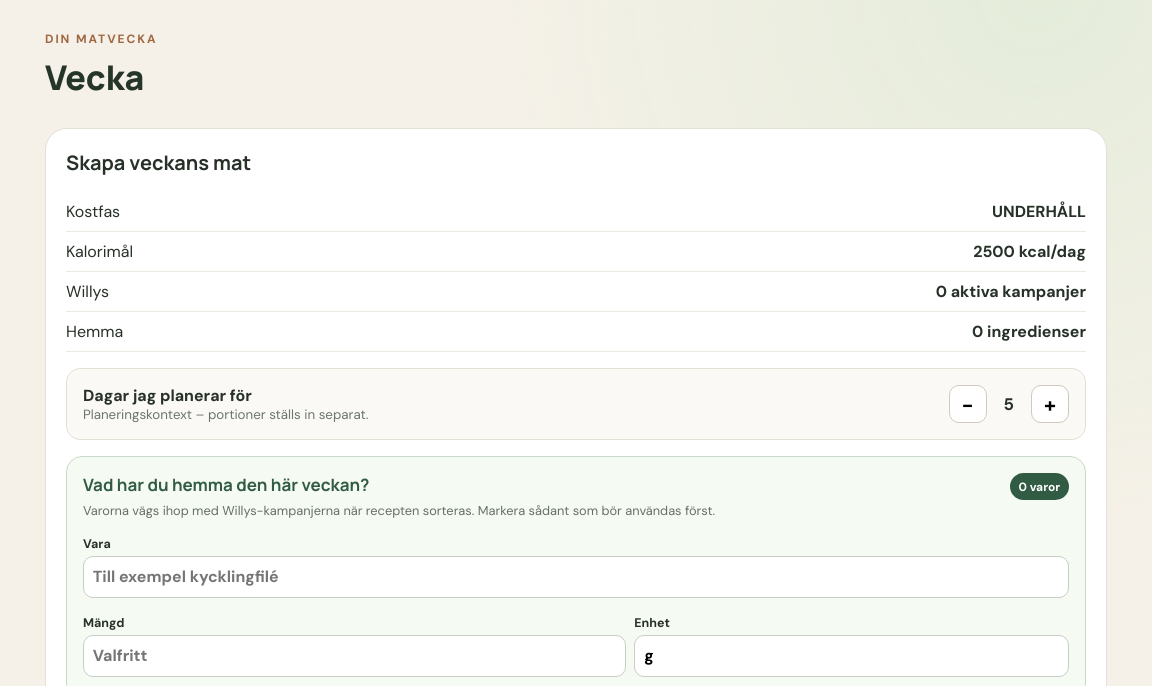
weekly campaign and planner UI › lets the user register weekly home ingredients before recommendations are ranked
Expected: the heading "Vad har du hemma den här veckan?" is shown, left=83, top=473, right=370, bottom=496
Type "Kyckling" into the field named "Vara hemma".
click(576, 576); type("Kyckling")  # box left=83, top=556, right=1069, bottom=598
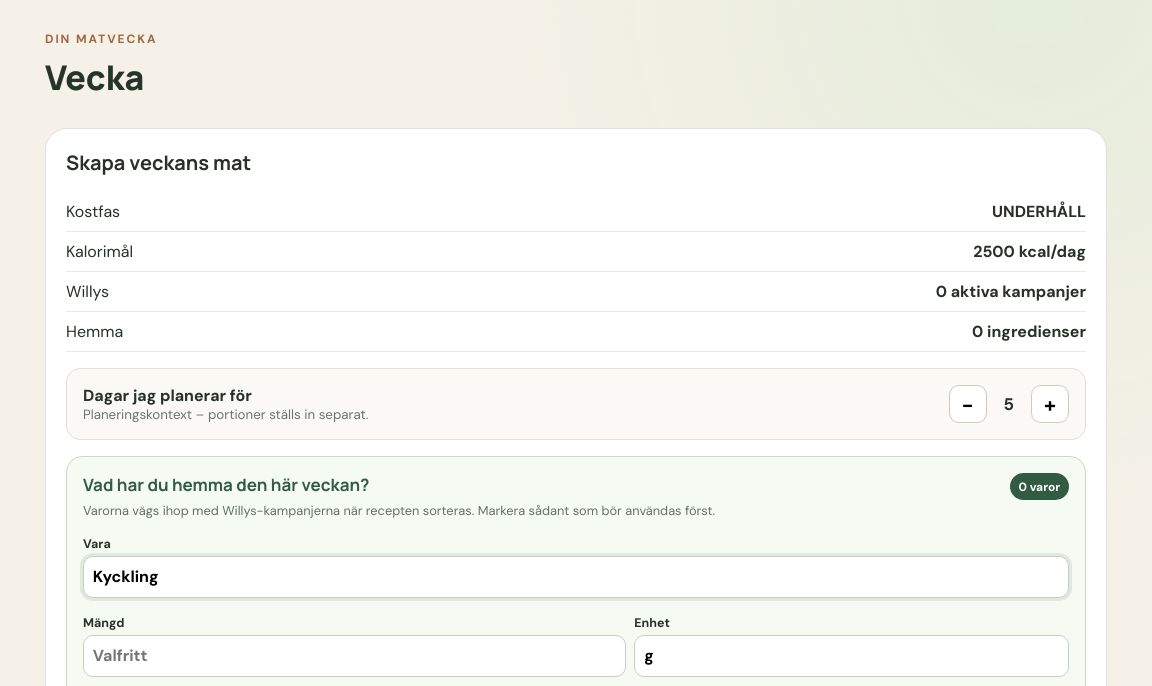
Type "800" into the number field named "Mängd hemma".
click(355, 656); type("800")  # box left=83, top=635, right=626, bottom=677
(page scrolled)
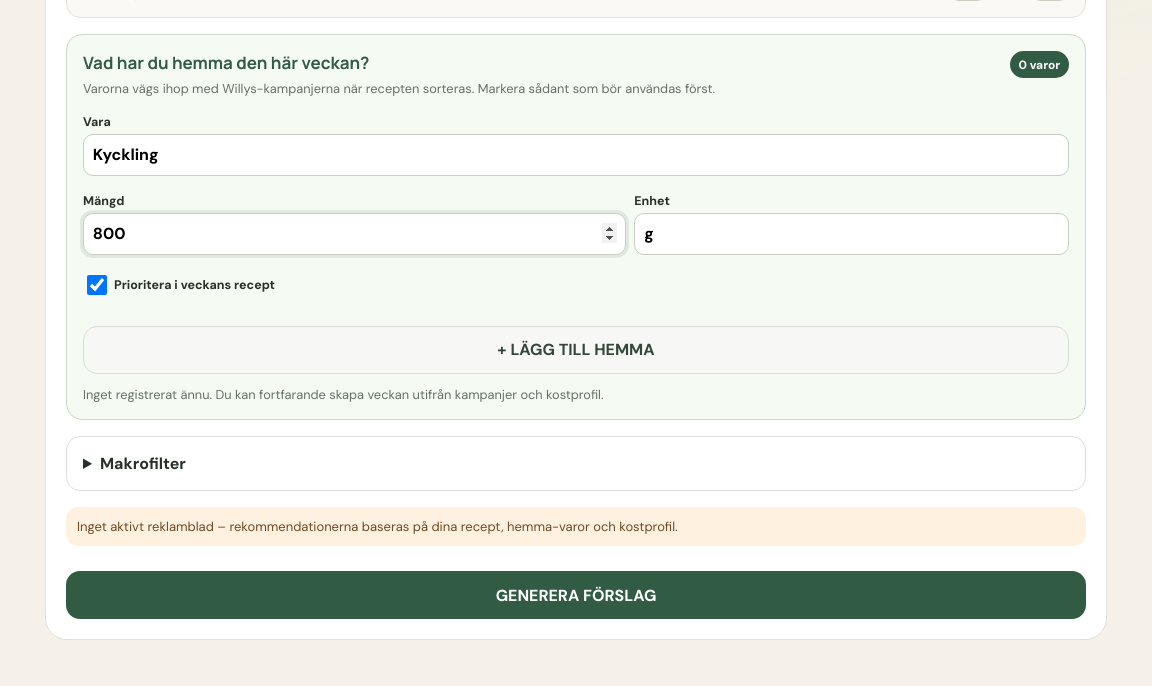
Click the button "+ LÄGG TILL HEMMA".
click(576, 350)  # box left=83, top=326, right=1069, bottom=374
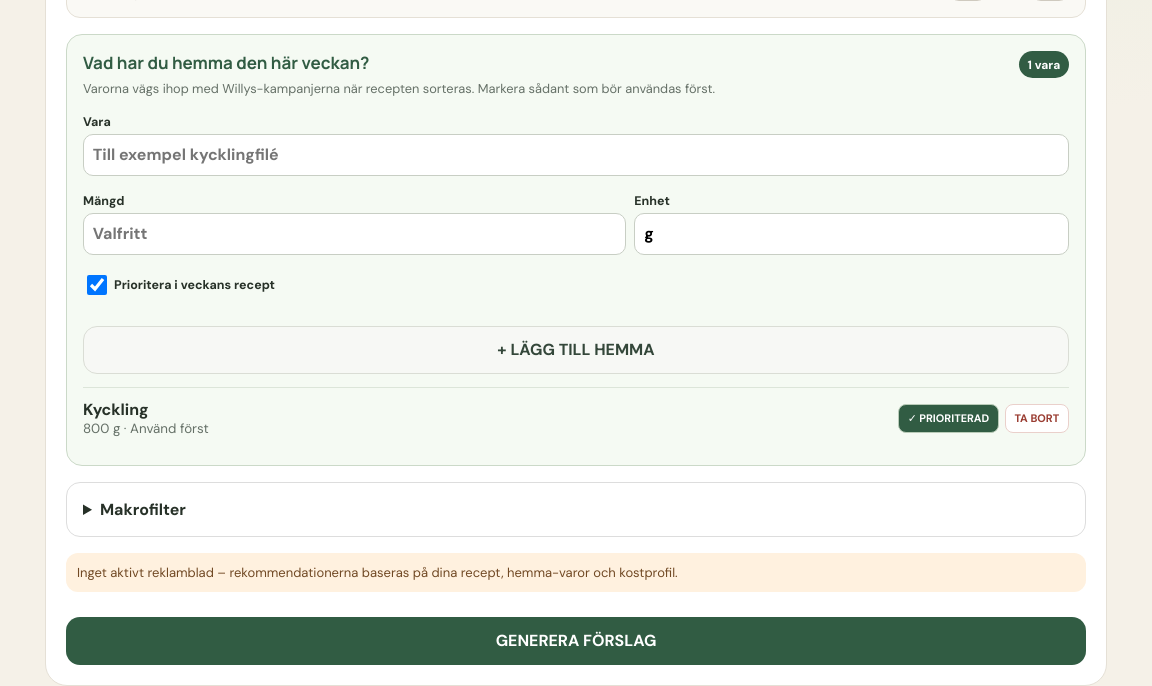
Result: the text "800 g · Använd först" is shown at left=83, top=420, right=209, bottom=438
Click the button "GENERERA FÖRSLAG".
click(576, 641)  # box left=66, top=617, right=1086, bottom=665
(page scrolled)
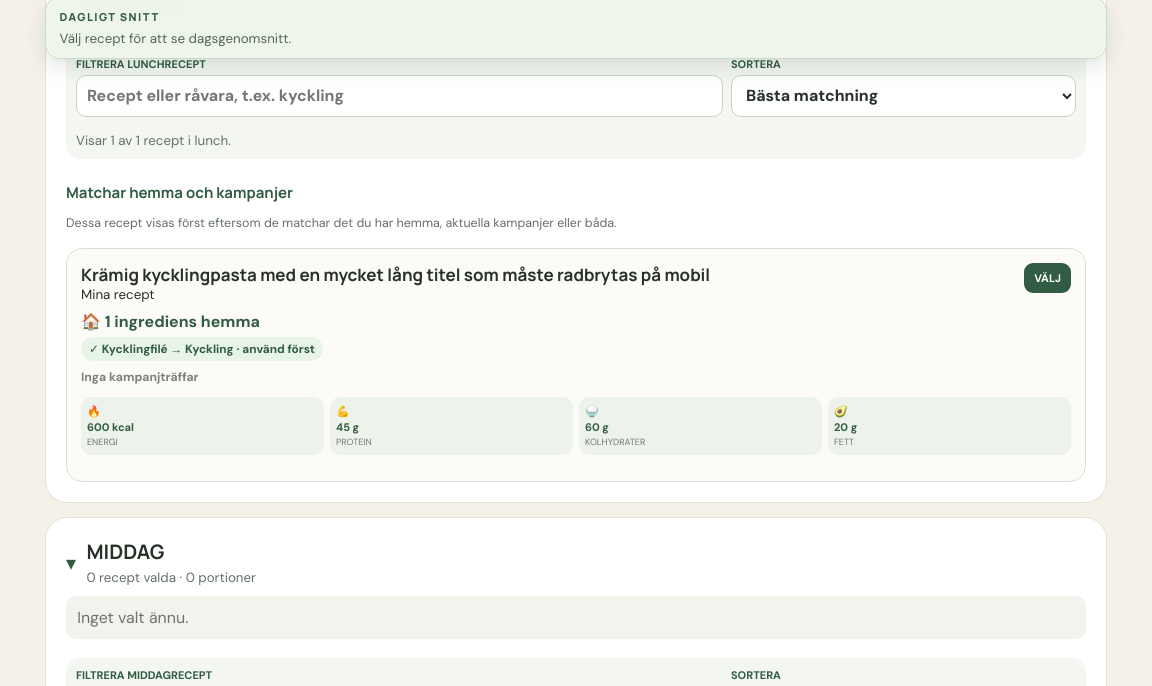
Result: the text "🏠 1 ingrediens hemma" is shown at left=81, top=311, right=260, bottom=332
Result: the text "✓ Kycklingfilé → Kyckling · använd först" is shown at left=81, top=337, right=323, bottom=361
